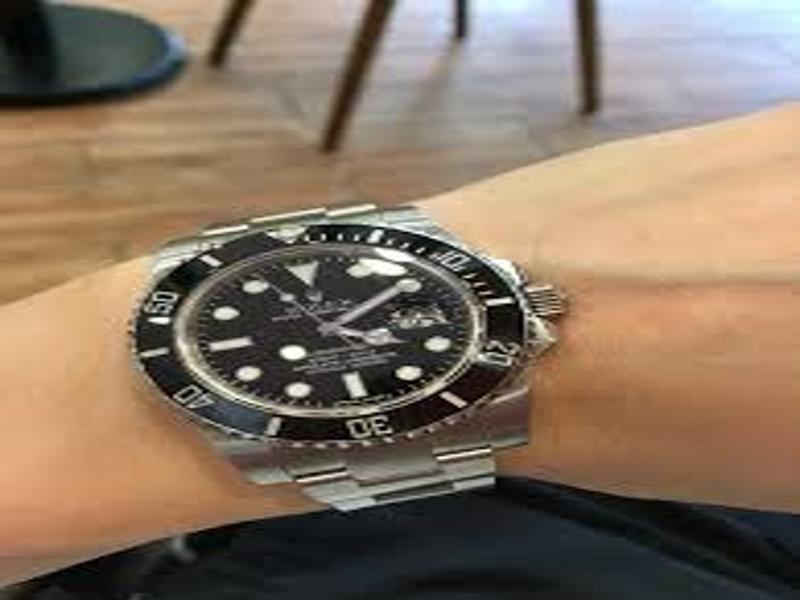watch: (134, 200, 568, 515)
